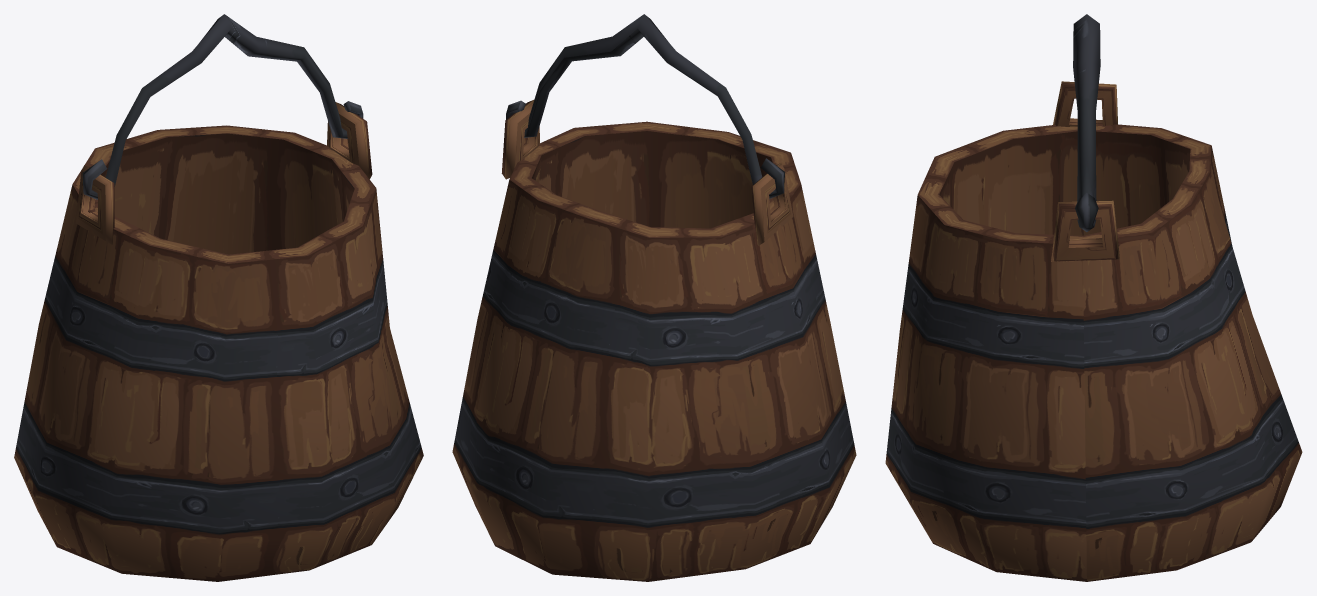
Rendered from SM_PROP_bucket_interior_01.fbx.
3 renders of one model, left to right at view 1: azimuth 30°, elevation 25°; view 2: azimuth 150°, elevation 25°; view 3: azimuth 270°, elevation 25°, orthographic.
Visible parts, largest first — view 1: SM_PROP_bucket_interior_01, SM_PROP_bucket_handle_interior_01; view 2: SM_PROP_bucket_interior_01, SM_PROP_bucket_handle_interior_01; view 3: SM_PROP_bucket_interior_01, SM_PROP_bucket_handle_interior_01.
Part boxes in pixels (x1=…): SM_PROP_bucket_interior_01: x1=14, y1=102, x2=423, y2=581; SM_PROP_bucket_handle_interior_01: x1=82, y1=14, x2=363, y2=199; SM_PROP_bucket_interior_01: x1=452, y1=100, x2=856, y2=581; SM_PROP_bucket_handle_interior_01: x1=506, y1=14, x2=784, y2=198; SM_PROP_bucket_interior_01: x1=885, y1=81, x2=1302, y2=581; SM_PROP_bucket_handle_interior_01: x1=1073, y1=14, x2=1100, y2=231.
Size of the model in its own units: 37.54 by 49.31 by 37.65.
